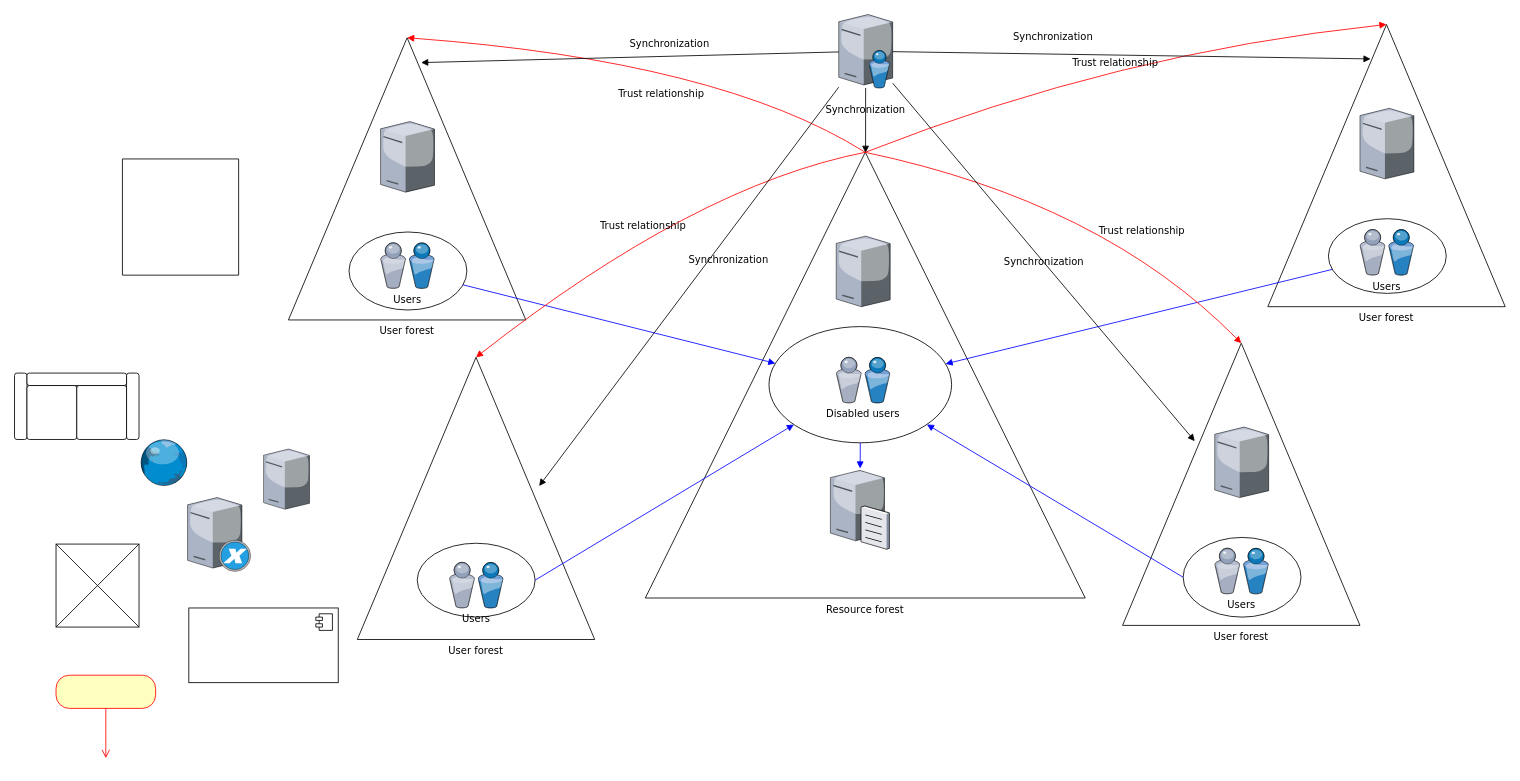
This 1520x781 diagram has some shape labels left out. The centre of each missing label's shape, as x and y in pixels:
"Activity" goes at [105,691].
"«Annotation» Component" goes at [263,645].
